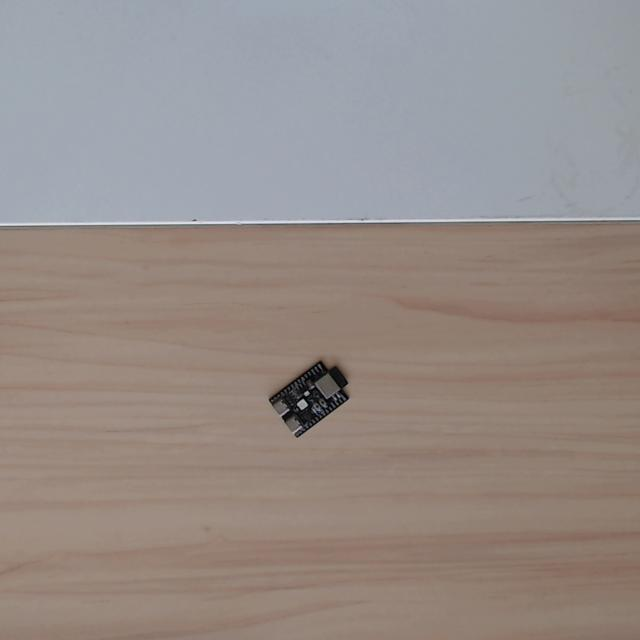ESP32C3-DevKit: (264, 352, 360, 442)
